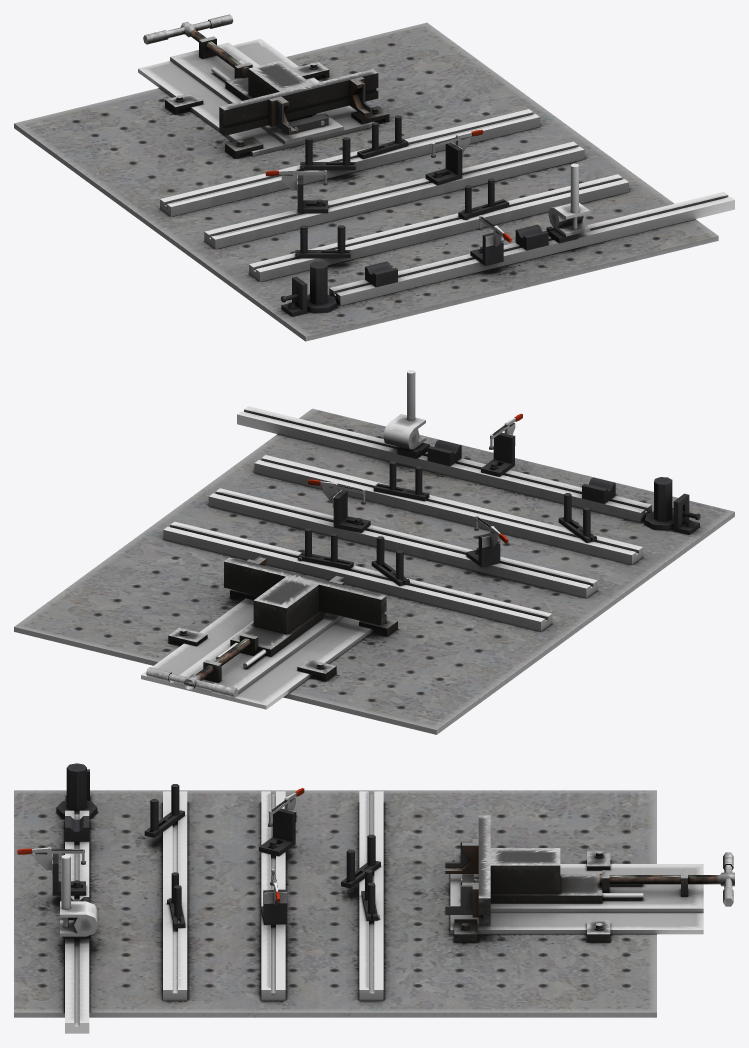
File: Mesa punteadora triangulo.FBX
3 renders of one model, top to bottom at view 1: azimuth 30°, elevation 25°; view 2: azimuth 150°, elevation 25°; view 3: azimuth 270°, elevation 25°, orthographic. The views are drawn at different scales.
Visible parts, largest first — view 1: Mesa_agujeros, Base_001, Base_superior_001, Base_005, Base_Para_pedales, Seguros_002, Seguro_015, Seguro_017, Seguro_011, Seguro_016, Seguro_018, Manija_grande (+6 smaller); view 2: Mesa_agujeros, Base_001, Base_superior_001, Base_005, Base_Para_pedales, Seguros_002, Seguro_001, Seguro_018, Seguro_016, Manija_grande, Seguro_015, Seguro_017 (+6 smaller); view 3: Mesa_agujeros, Base_superior_001, Base_001, Base_005, Base_Para_pedales, tornillo_005, Seguros_002, Seguro_007, Seguro_017, Seguro_015, Seguro_018, Corrediza_002 (+8 smaller).
Boxes of the visible parts, left/top/right/bottom form: Mesa_agujeros: left=14, top=22, right=718, bottom=341; Base_001: left=160, top=109, right=734, bottom=305; Base_superior_001: left=138, top=38, right=374, bottom=156; Base_005: left=219, top=69, right=378, bottom=135; Base_Para_pedales: left=307, top=261, right=336, bottom=313; Seguros_002: left=548, top=203, right=590, bottom=236; Seguro_015: left=300, top=137, right=355, bottom=170; Seguro_017: left=295, top=225, right=350, bottom=258; Seguro_011: left=425, top=142, right=462, bottom=185; Seguro_016: left=357, top=115, right=408, bottom=159; Seguro_018: left=458, top=178, right=509, bottom=219; Manija_grande: left=143, top=14, right=233, bottom=44; Mesa_agujeros: left=14, top=408, right=734, bottom=734; Base_001: left=163, top=406, right=651, bottom=631; Base_superior_001: left=141, top=556, right=374, bottom=709; Base_005: left=224, top=557, right=386, bottom=625; Base_Para_pedales: left=644, top=477, right=673, bottom=530; Seguros_002: left=383, top=414, right=425, bottom=449; Seguro_001: left=481, top=432, right=514, bottom=476; Seguro_018: left=373, top=461, right=429, bottom=501; Seguro_016: left=298, top=528, right=353, bottom=569; Manija_grande: left=146, top=667, right=238, bottom=697; Seguro_015: left=371, top=536, right=409, bottom=585; Seguro_017: left=558, top=493, right=596, bottom=542; Mesa_agujeros: left=14, top=790, right=656, bottom=1017; Base_superior_001: left=445, top=841, right=703, bottom=934; Base_001: left=65, top=791, right=383, bottom=1033; Base_005: left=478, top=815, right=490, bottom=926; Base_Para_pedales: left=56, top=763, right=97, bottom=818; tornillo_005: left=599, top=872, right=734, bottom=886; Seguros_002: left=60, top=901, right=98, bottom=936; Seguro_007: left=259, top=808, right=295, bottom=856; Seguro_017: left=144, top=784, right=184, bottom=837; Seguro_015: left=341, top=834, right=380, bottom=888; Seguro_018: left=167, top=872, right=185, bottom=928; Corrediza_002: left=65, top=816, right=89, bottom=841.
Bounding box in the file's own units: 0.9857 × 0.1819 × 1.23.
1 material, 1 textured.
